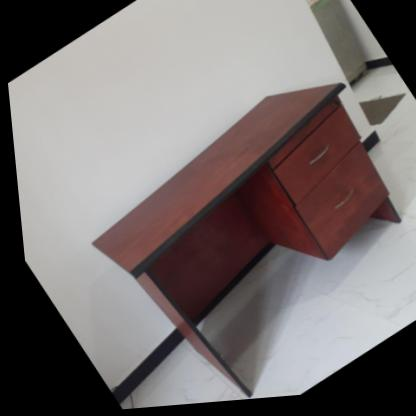Table: (47, 35, 416, 413)
